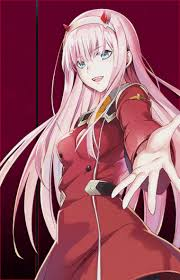zeroTwo: (58, 4, 151, 94)
